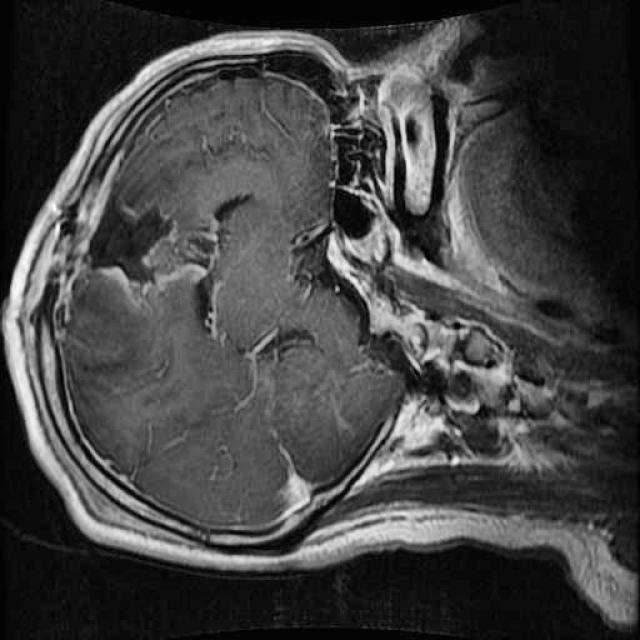Non-Tumor: (71, 169, 271, 358)
